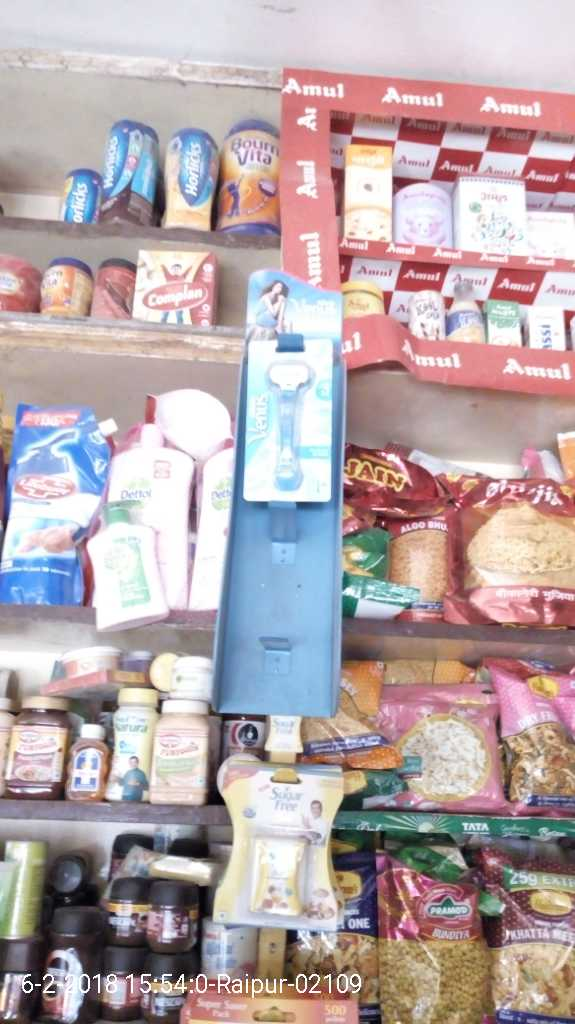A: (406, 658, 523, 833)
